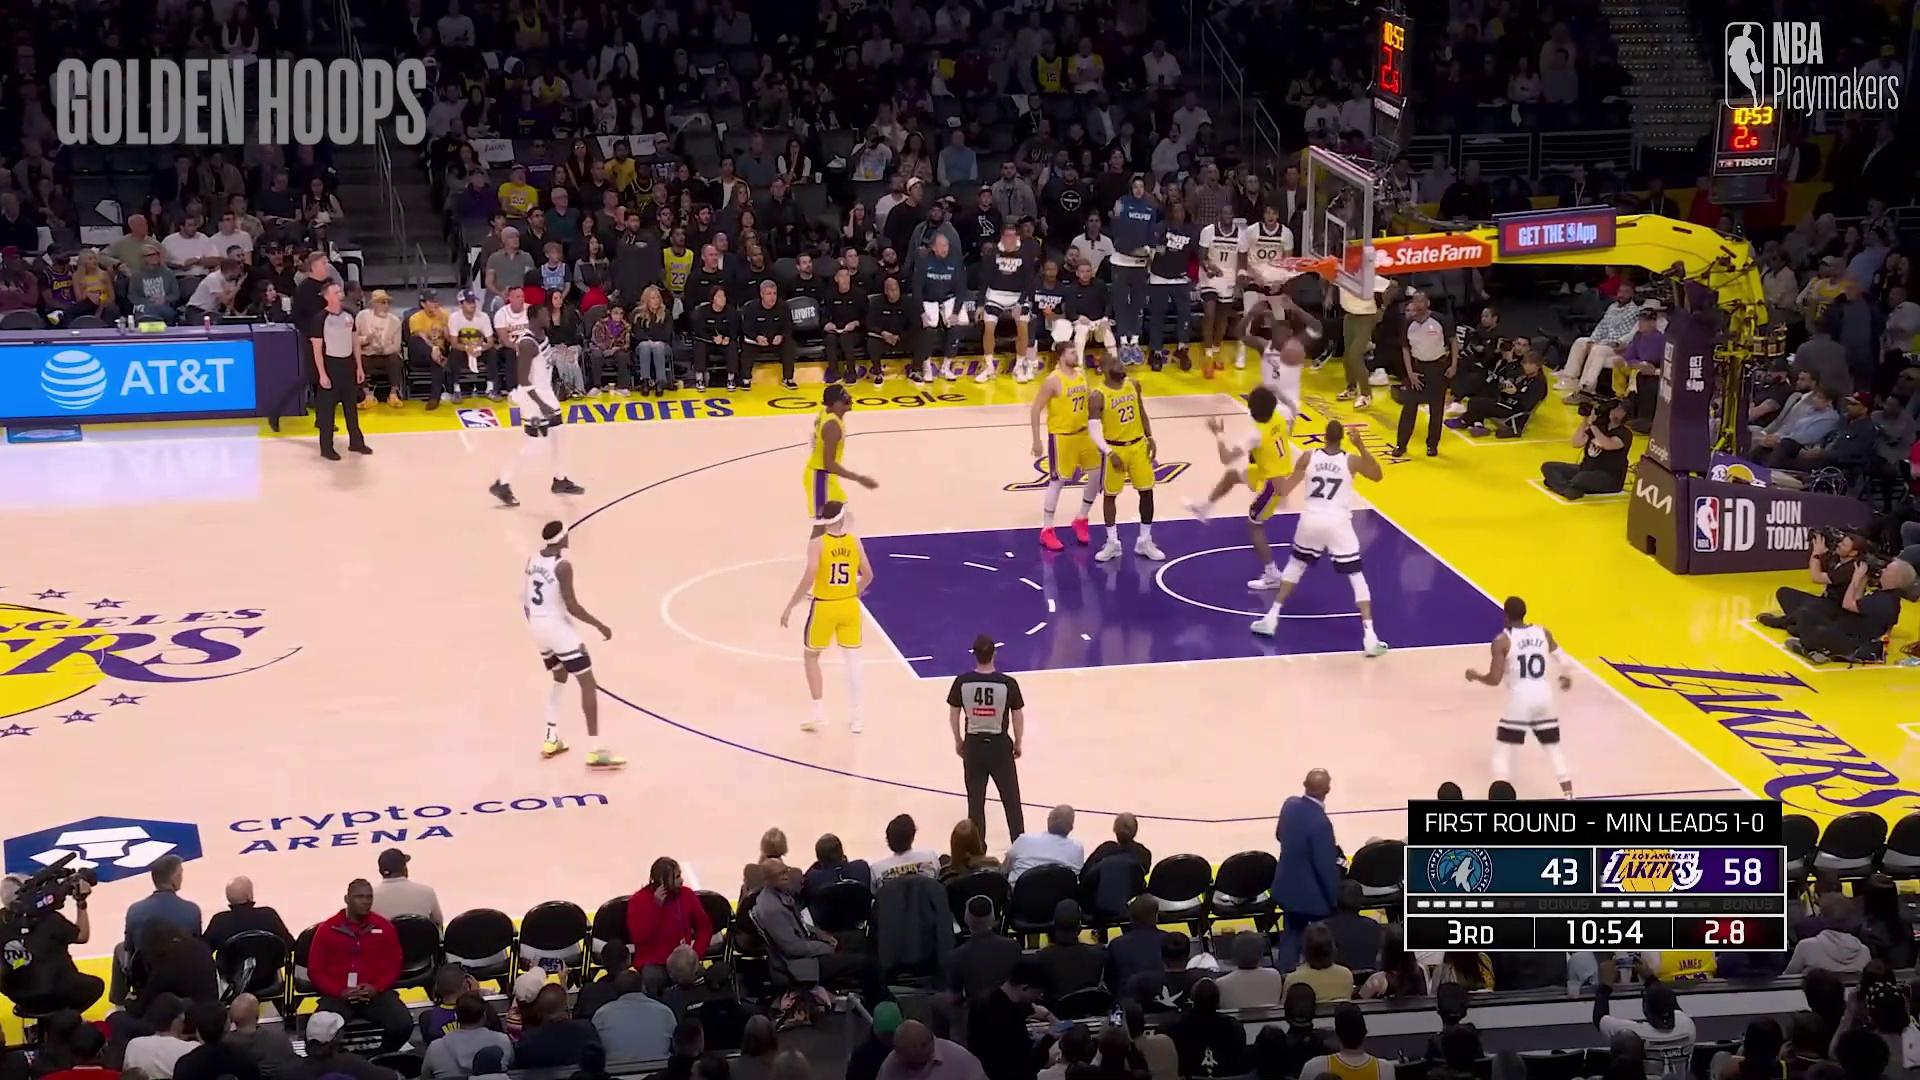ball: (1279, 339, 1305, 369)
hoop: (1265, 247, 1313, 299)
